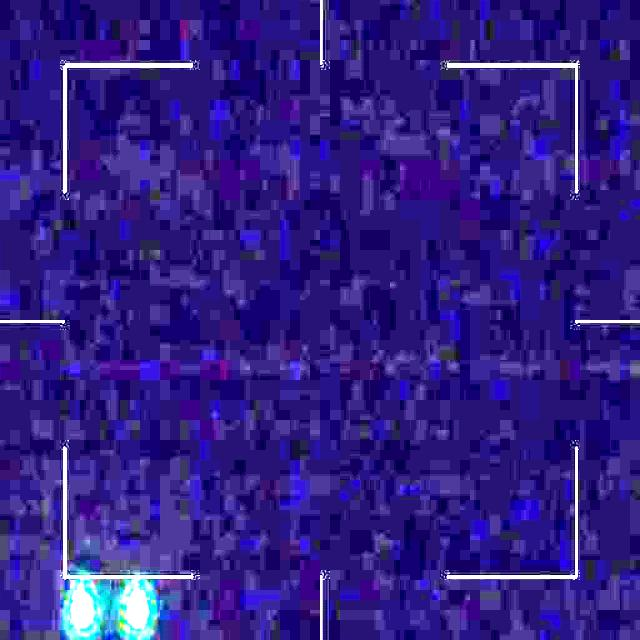bird: (70, 588, 156, 634)
